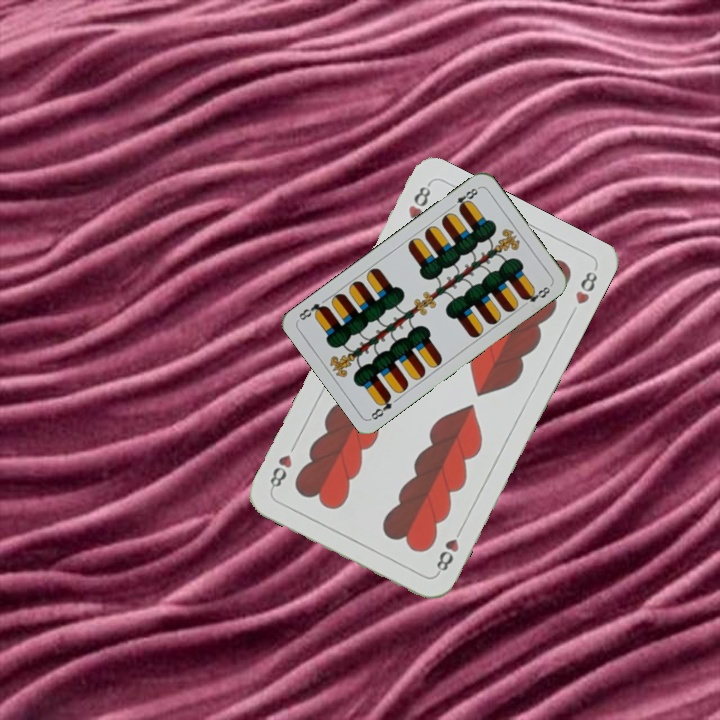E8: (367, 391, 402, 422), (446, 183, 482, 213)
H8: (432, 522, 466, 577), (404, 179, 434, 222)
